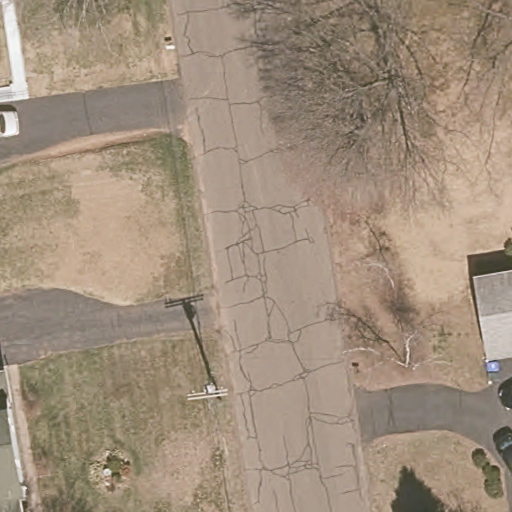DT: (186, 368, 229, 403)
